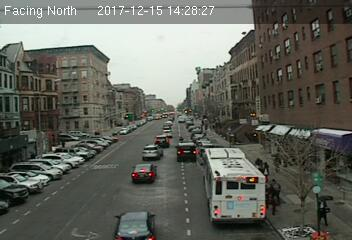bus: (203, 147, 269, 226)
car: (114, 212, 158, 240), (132, 163, 157, 184), (175, 142, 198, 162), (141, 144, 164, 160), (153, 135, 171, 148)
pedestrian: (316, 193, 329, 231), (272, 176, 283, 207)
